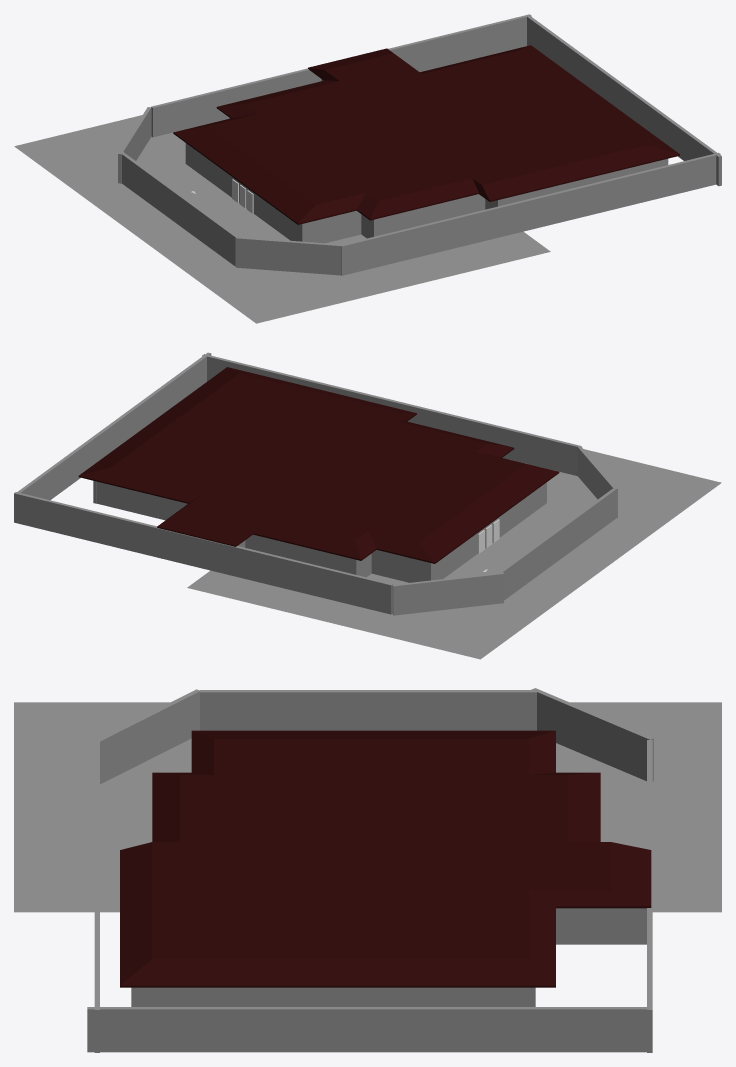
The model's file is models.FBX.
3 views of the same model, one above another, from view 1: azimuth 30°, elevation 25°; view 2: azimuth 150°, elevation 25°; view 3: azimuth 270°, elevation 25° (orthographic). The views are drawn at different scales.
Parts seen in each view (by area): view 1: Roof, Walls, Plane001; view 2: Roof, Walls, Plane001; view 3: Roof, Walls, Plane001.
Part boxes in pixels (x1,y1,x2,y2): Roof: (173,45,679,224); Walls: (118,14,721,275); Plane001: (14,115,550,323); Roof: (78,367,559,563); Walls: (14,352,617,615); Plane001: (187,449,721,659); Roof: (120,730,651,987); Walls: (87,688,653,1052); Plane001: (14,702,721,912).
Bounding box in the file's own units: 3451 × 360 × 2945.
